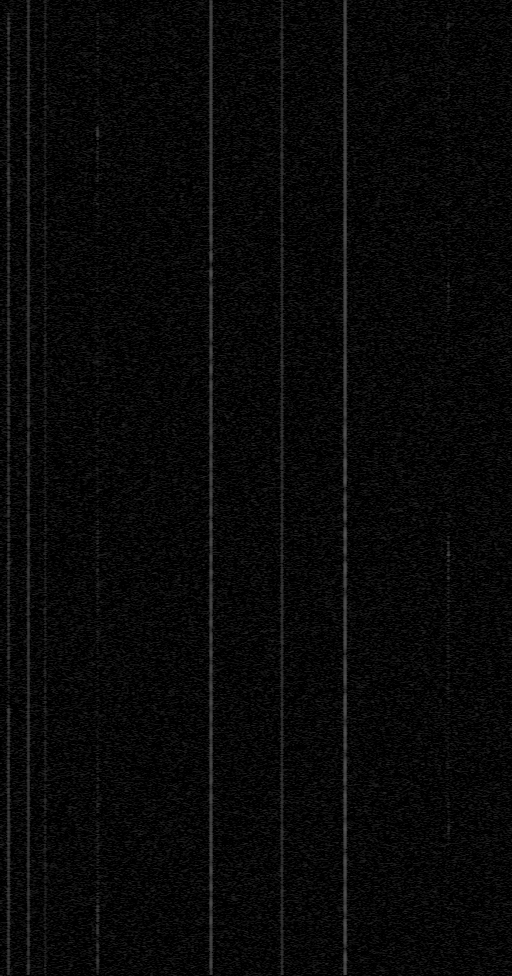wv_am: (208, 0, 214, 975), (342, 0, 348, 975), (43, 0, 48, 975), (26, 0, 31, 975)
wv_cw: (279, 0, 285, 975)
wv_lsb: (0, 9, 14, 976), (446, 532, 451, 611), (446, 625, 451, 700), (446, 271, 451, 315), (446, 778, 451, 820), (446, 60, 451, 99), (446, 821, 451, 855), (446, 327, 451, 354), (446, 736, 451, 759), (446, 214, 451, 236), (446, 705, 451, 726), (446, 12, 451, 31), (446, 513, 451, 531), (446, 143, 451, 161), (446, 125, 451, 142), (446, 32, 451, 49), (446, 198, 451, 213), (446, 355, 450, 373), (446, 612, 451, 624), (446, 258, 451, 270), (447, 390, 450, 409), (446, 760, 451, 771), (447, 900, 450, 911), (447, 492, 450, 503), (447, 185, 450, 196), (447, 101, 450, 112), (446, 162, 450, 170), (447, 888, 450, 898), (447, 417, 450, 427), (446, 171, 451, 177), (447, 959, 450, 968), (447, 438, 450, 447), (447, 317, 450, 326), (447, 915, 450, 923), (447, 727, 450, 735), (446, 52, 450, 58), (447, 951, 450, 958), (447, 875, 450, 882), (447, 864, 450, 871), (447, 430, 450, 437), (446, 772, 450, 777), (447, 932, 450, 938), (447, 857, 450, 863), (446, 701, 451, 704), (447, 471, 450, 476), (447, 450, 450, 455), (447, 116, 450, 121), (447, 883, 450, 887), (447, 486, 450, 490), (447, 378, 450, 382), (447, 253, 450, 257), (447, 245, 450, 249), (447, 505, 450, 508), (447, 456, 450, 459), (447, 413, 450, 416), (447, 383, 450, 386), (447, 374, 450, 377)
wv_usb: (95, 12, 100, 116), (95, 486, 100, 586), (95, 587, 100, 677), (95, 120, 100, 206), (95, 890, 100, 975), (95, 800, 100, 864), (95, 753, 100, 799), (95, 380, 100, 419), (95, 722, 100, 752), (95, 696, 100, 721), (96, 334, 100, 365), (95, 423, 100, 447), (95, 865, 100, 889), (96, 305, 100, 333), (96, 240, 100, 263), (95, 465, 100, 480), (96, 265, 100, 283), (95, 226, 100, 239), (96, 448, 100, 464), (96, 207, 100, 221), (96, 684, 100, 695), (96, 284, 100, 292), (96, 294, 99, 304), (95, 678, 100, 683), (96, 366, 100, 370), (96, 482, 100, 485), (96, 371, 99, 375), (96, 376, 99, 379)
